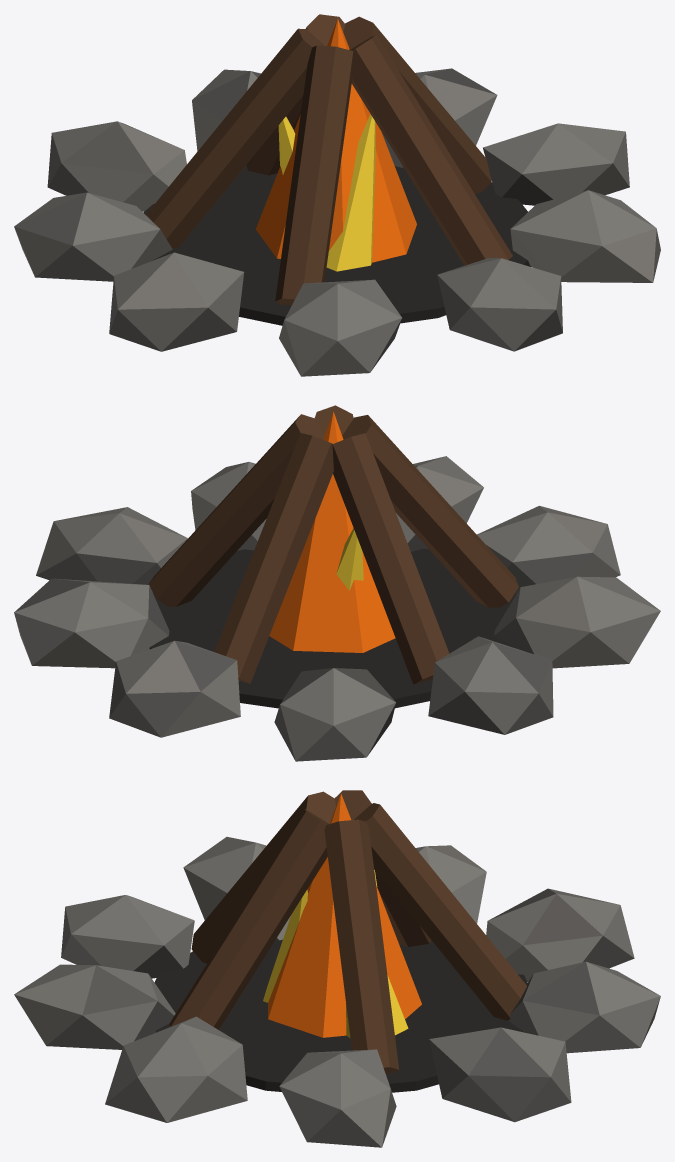
Rendered from campfire.obj.
The picture shows the model from 3 angles, top to bottom: view 1: azimuth 30°, elevation 25°; view 2: azimuth 150°, elevation 25°; view 3: azimuth 270°, elevation 25°; orthographic projection. The views are drawn at different scales.
Visible parts, largest first — view 1: campfire; view 2: campfire; view 3: campfire.
Boxes of the visible parts, x1,y1,x2,y2 form: campfire: (14, 14, 660, 376); campfire: (14, 405, 660, 761); campfire: (14, 790, 660, 1147).
Bounding box in the file's own units: 1.23 × 0.4826 × 1.25.
